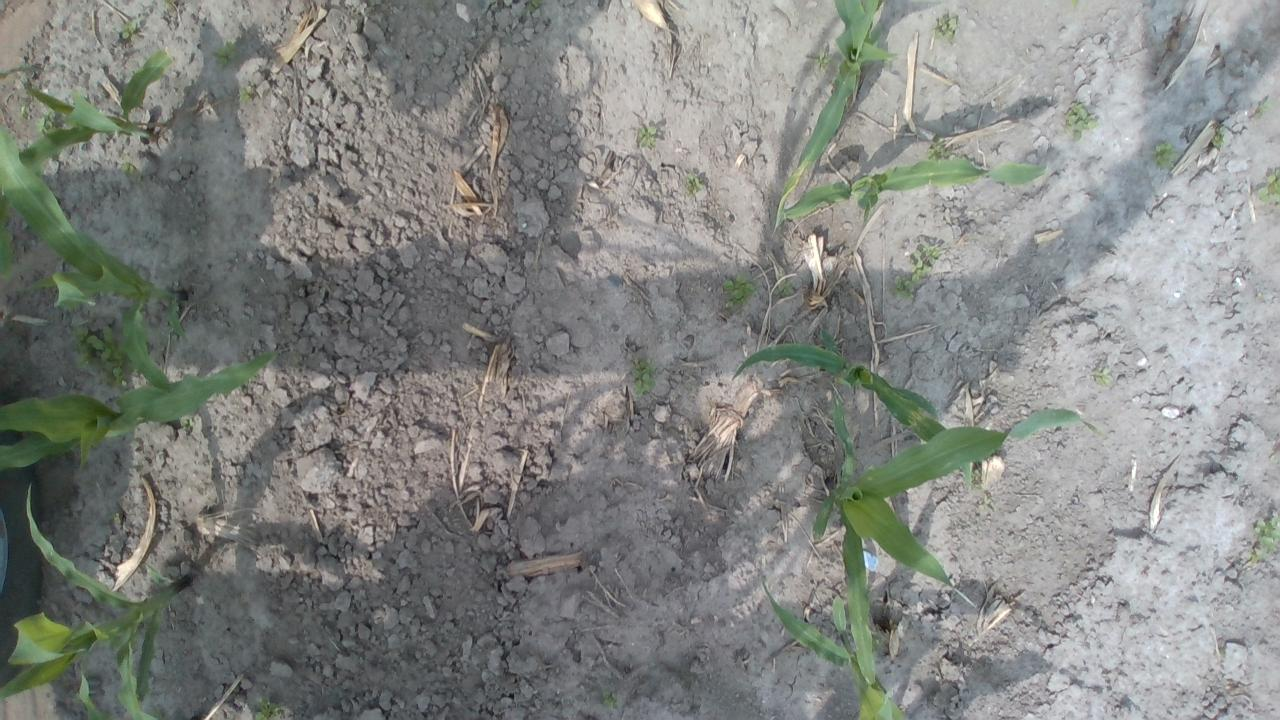Maize: (812, 393, 1106, 682), (0, 116, 186, 393), (0, 481, 192, 720), (0, 44, 174, 278), (0, 347, 278, 472), (772, 0, 896, 236), (756, 576, 912, 720), (731, 344, 944, 439), (780, 154, 1048, 223)
Weeds: (72, 322, 130, 393), (1246, 510, 1280, 566), (720, 270, 760, 314), (1064, 102, 1099, 144), (910, 242, 941, 280), (630, 358, 658, 396), (1257, 167, 1280, 206), (213, 38, 240, 68), (1152, 141, 1178, 170), (252, 696, 282, 720), (35, 106, 58, 137), (932, 16, 958, 43), (816, 327, 839, 354), (893, 274, 915, 301), (600, 687, 624, 711), (636, 127, 658, 152), (926, 140, 948, 162), (118, 158, 139, 180), (686, 173, 706, 196), (1255, 98, 1273, 120), (116, 22, 138, 40), (775, 280, 798, 296), (1095, 366, 1113, 385), (1209, 128, 1226, 148), (966, 468, 981, 490), (237, 86, 253, 106), (814, 50, 831, 68), (980, 494, 995, 514), (179, 415, 194, 432), (17, 102, 31, 119), (526, 0, 541, 11), (110, 511, 121, 523), (164, 0, 174, 9), (1071, 0, 1081, 7)
